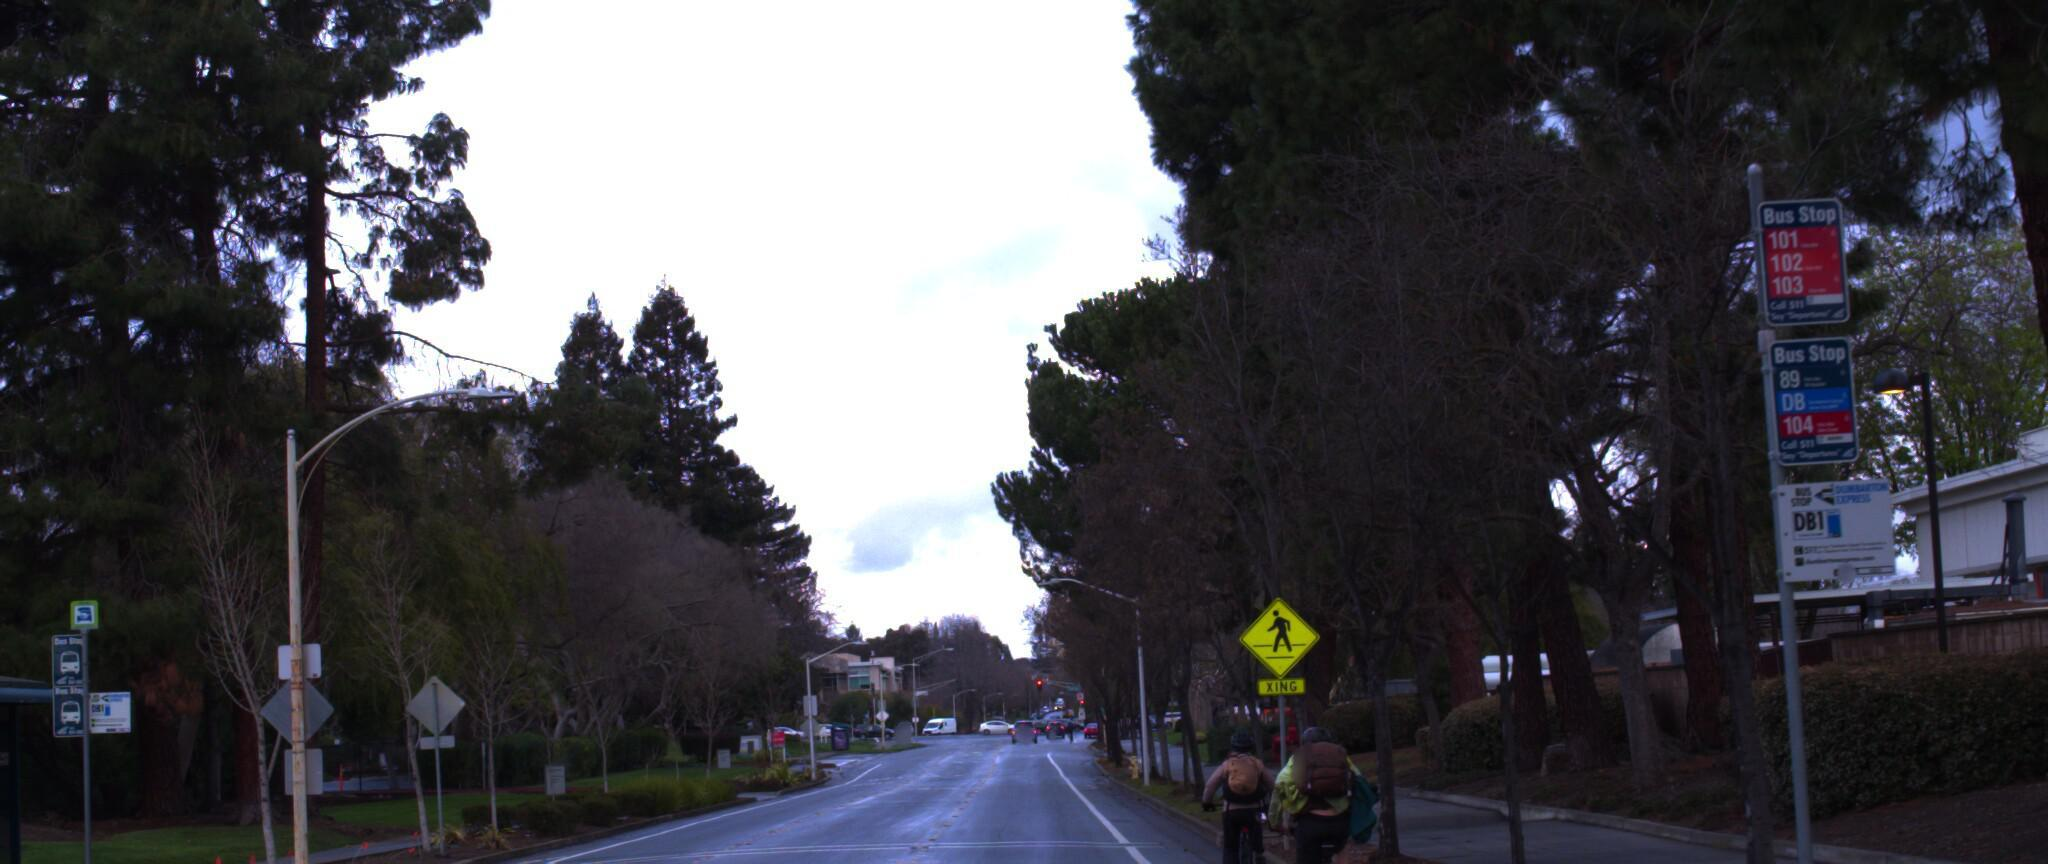bicycle: (1225, 707, 1411, 864), (1183, 717, 1297, 864)
